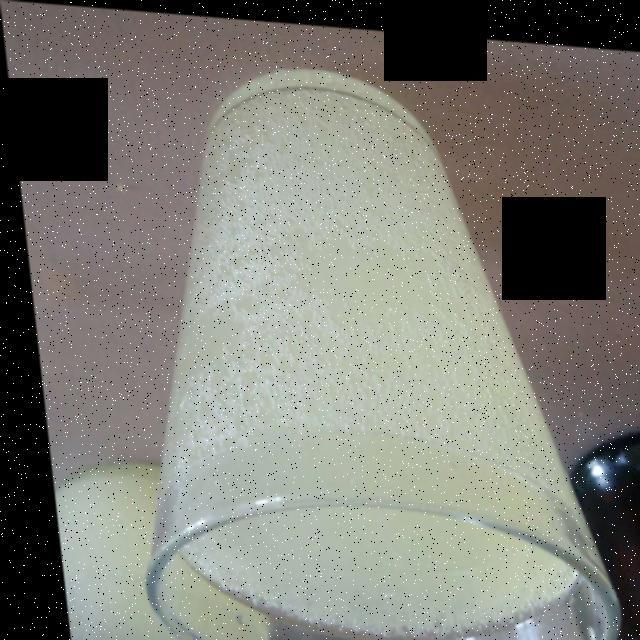drink: (155, 90, 563, 594)
